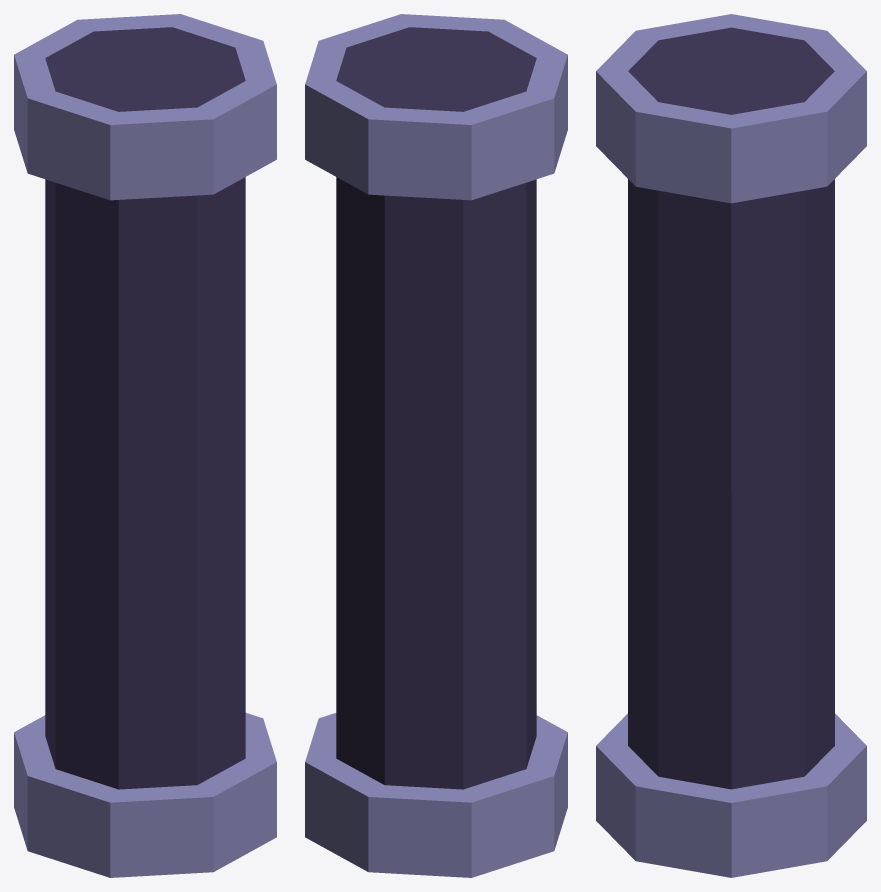
Rendered from Pipe_Middle_Vertical.fbx.
The picture shows the model from 3 angles, left to right: view 1: azimuth 30°, elevation 25°; view 2: azimuth 150°, elevation 25°; view 3: azimuth 270°, elevation 25°; orthographic projection.
Parts seen in each view (by area): view 1: Pipe_Vertical; view 2: Pipe_Vertical; view 3: Pipe_Vertical.
Boxes of the visible parts, x1,y1,x2,y2 form: Pipe_Vertical: (14, 14, 276, 877); Pipe_Vertical: (305, 14, 567, 877); Pipe_Vertical: (596, 14, 866, 877).
Size of the model in its own units: 0.3276 by 1 by 0.3276.
